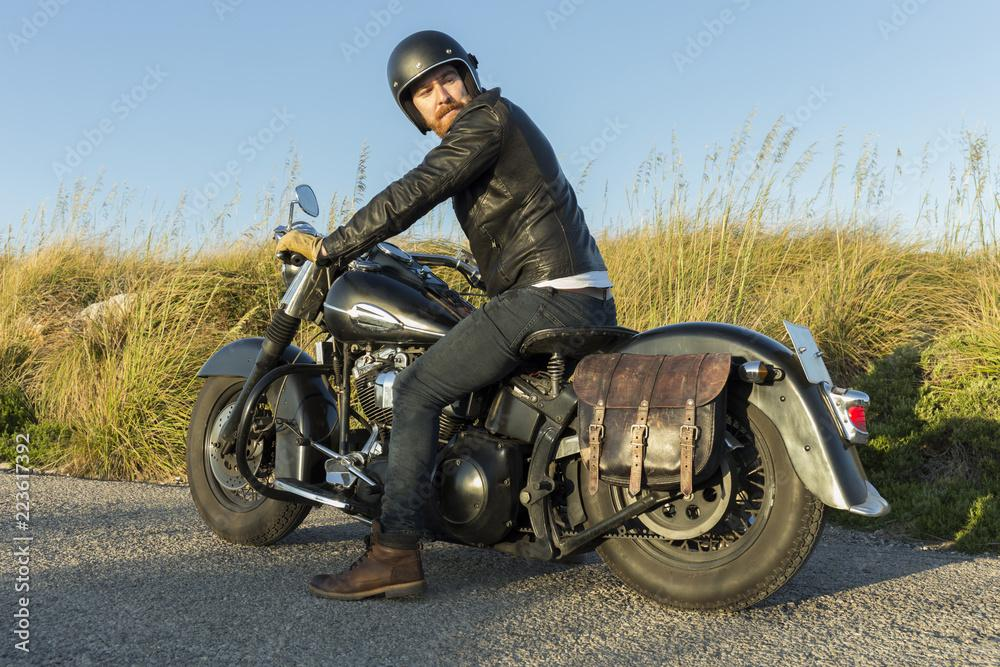helmet: (386, 29, 487, 136)
